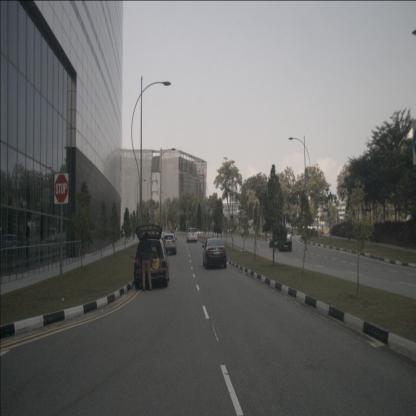human-pedestrian-adult: (140, 233, 152, 291)
vehicle-car: (134, 224, 169, 290), (202, 237, 226, 270), (277, 226, 292, 252), (162, 234, 176, 255), (186, 227, 198, 243)
